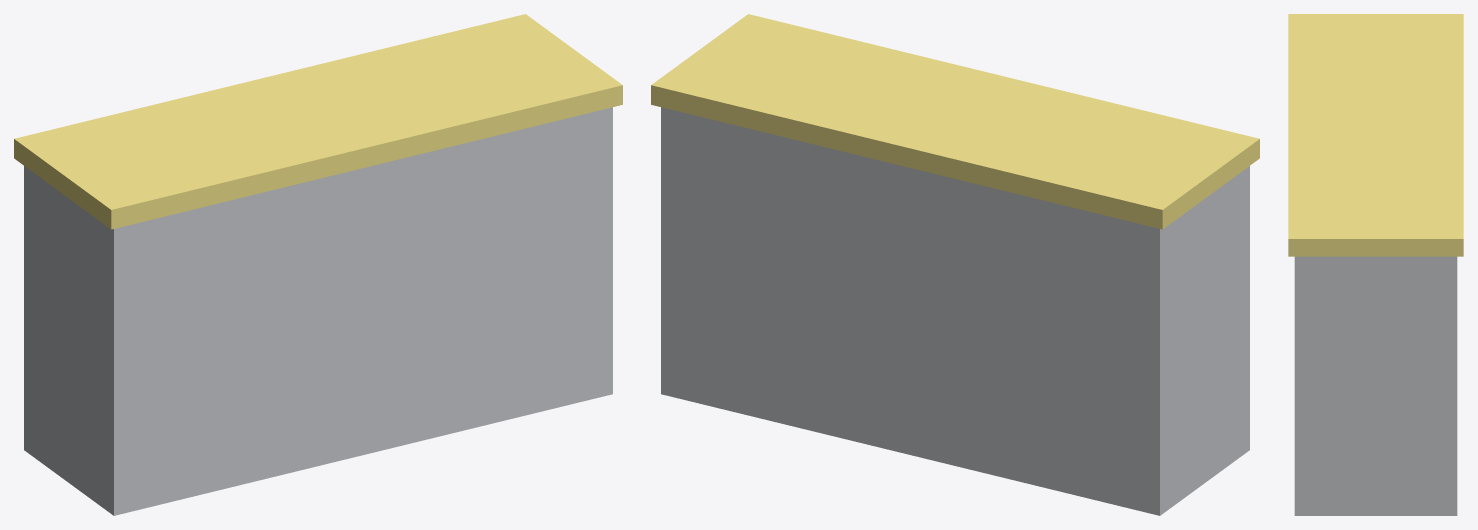
File: Toy_Bench.fbx
3 views of the same model, side by side, from view 1: azimuth 30°, elevation 25°; view 2: azimuth 150°, elevation 25°; view 3: azimuth 270°, elevation 25° (orthographic). The views are drawn at different scales.
Parts seen in each view (by area): view 1: Toy_Bench; view 2: Toy_Bench; view 3: Toy_Bench.
Part boxes in pixels (x1=…): Toy_Bench: x1=14, y1=14, x2=622, y2=515; Toy_Bench: x1=651, y1=14, x2=1259, y2=515; Toy_Bench: x1=1288, y1=14, x2=1463, y2=515.
Size of the model in its own units: 1.64 by 0.95 by 0.54.
